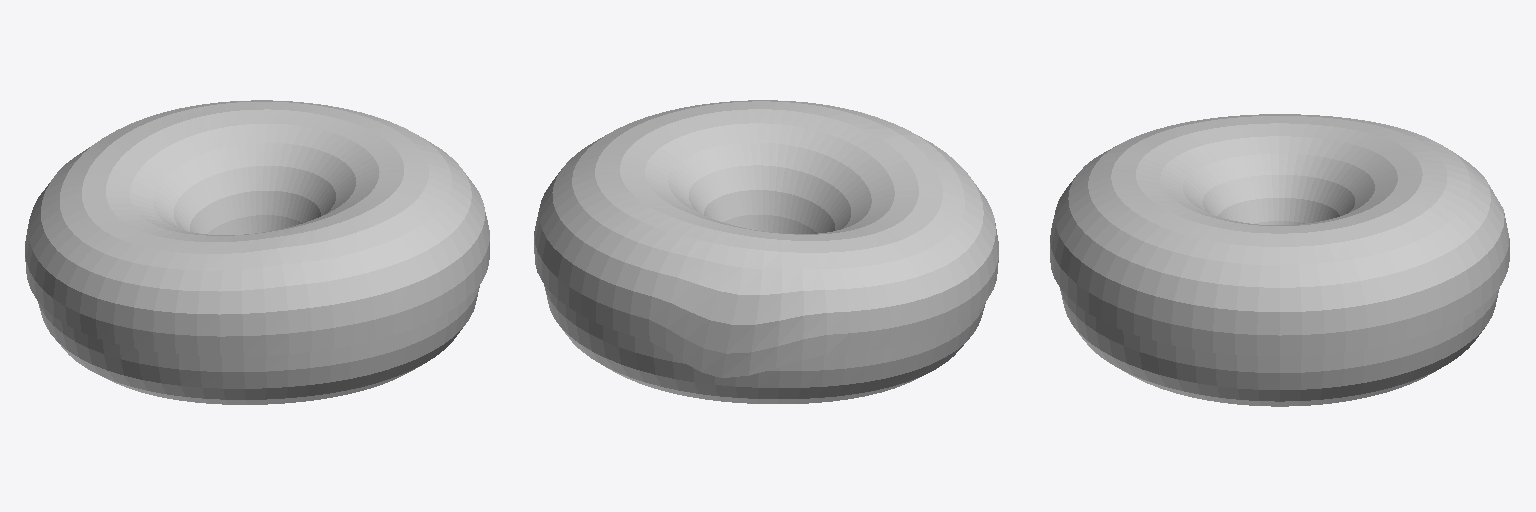
Rendered from donut.obj.
3 renders of one model, left to right at view 1: azimuth 30°, elevation 25°; view 2: azimuth 150°, elevation 25°; view 3: azimuth 270°, elevation 25°, orthographic.
Visible parts, largest first — view 1: Icing_Torus.001, Donut_Mesh; view 2: Icing_Torus.001, Donut_Mesh; view 3: Icing_Torus.001, Donut_Mesh.
Boxes of the visible parts, <box> form: Icing_Torus.001: <box>25,100,489,355</box>; Donut_Mesh: <box>38,285,479,404</box>; Icing_Torus.001: <box>534,100,998,377</box>; Donut_Mesh: <box>544,285,985,403</box>; Icing_Torus.001: <box>1050,114,1509,356</box>; Donut_Mesh: <box>1060,288,1499,406</box>.
Size of the model in its own units: 1.29 by 0.5186 by 1.27.